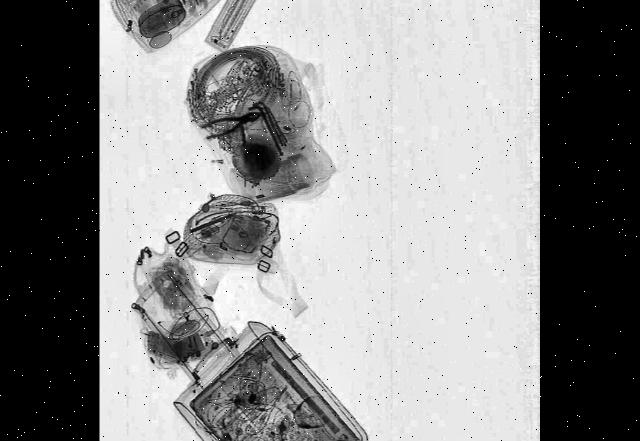Pliers: (200, 106, 261, 141)
